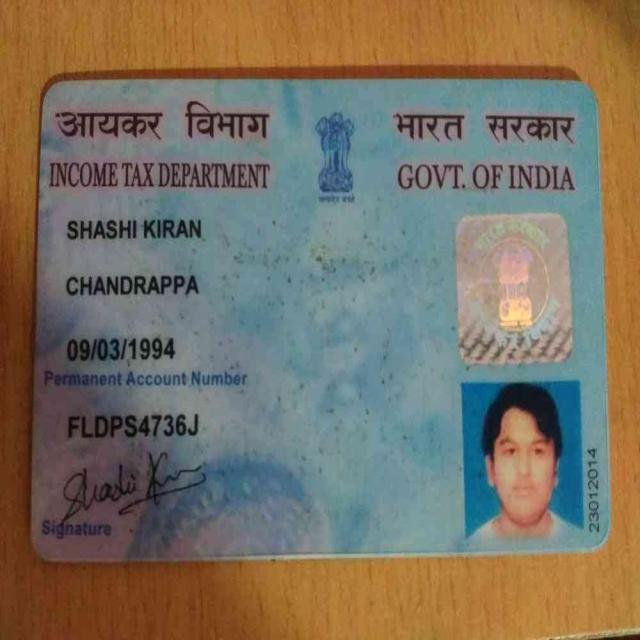pan_card: (37, 82, 603, 563)
